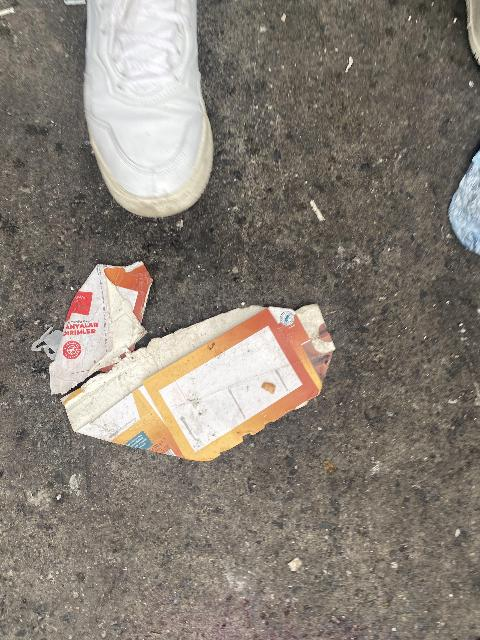Kagit: (44, 305, 345, 463), (33, 258, 157, 398)
